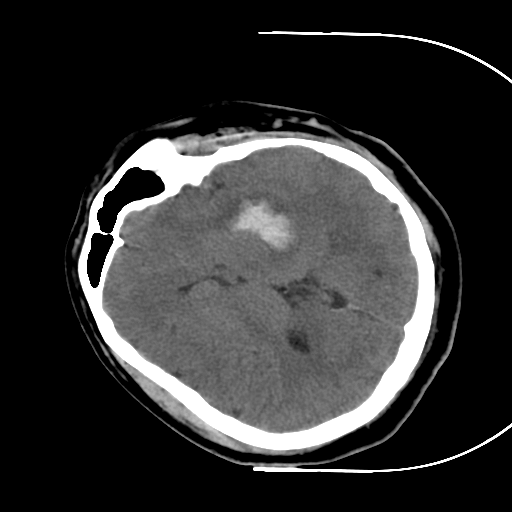a: (193, 178, 321, 275)
